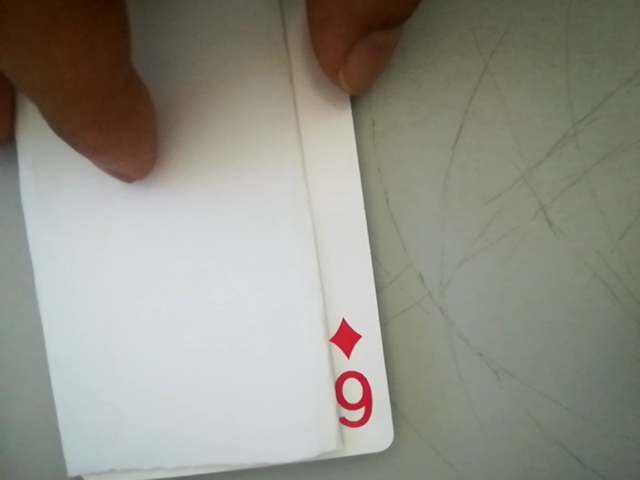fk 6: (316, 311, 388, 442)
